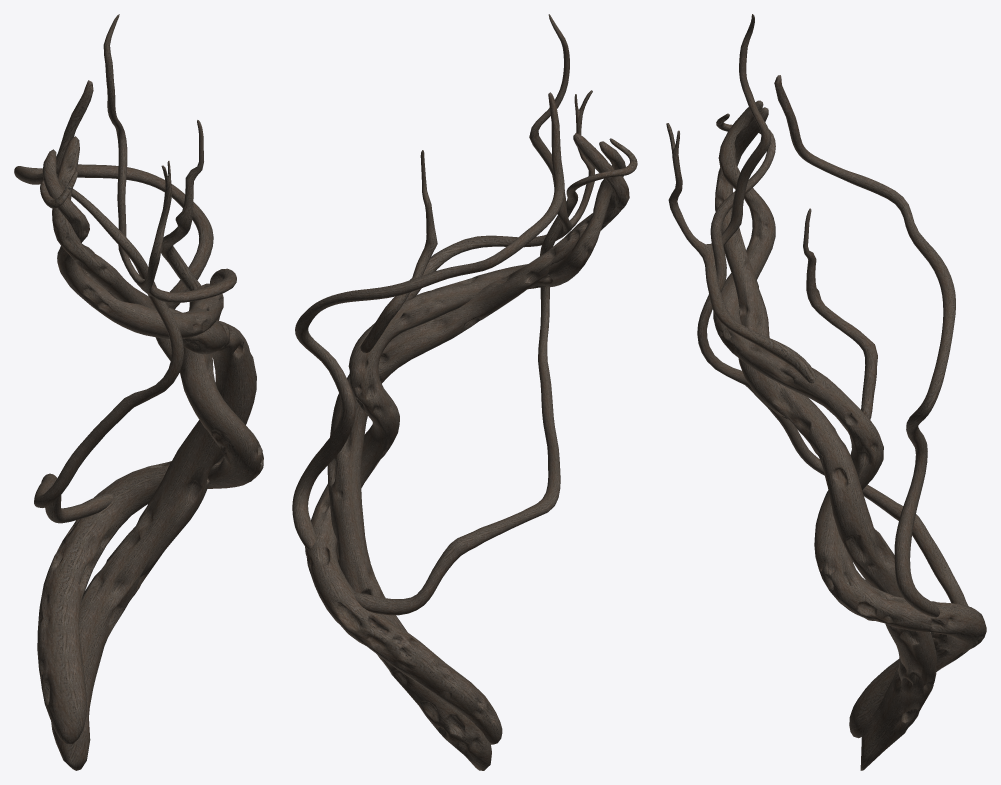
File: SM_BigTree004.fbx
3 views of the same model, side by side, from view 1: azimuth 30°, elevation 25°; view 2: azimuth 150°, elevation 25°; view 3: azimuth 270°, elevation 25° (orthographic). The views are drawn at different scales.
Visible parts, largest first — view 1: SM_BigTree004; view 2: SM_BigTree004; view 3: SM_BigTree004.
Boxes of the visible parts, left/top/right/bottom form: SM_BigTree004: left=14, top=14, right=263, bottom=770; SM_BigTree004: left=292, top=14, right=637, bottom=770; SM_BigTree004: left=666, top=14, right=986, bottom=770.
Bounding box in the file's own units: 9556 × 25932 × 10059.
